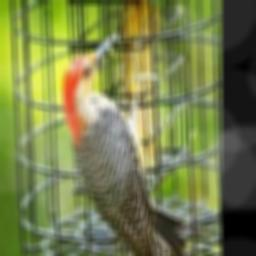Woodpecker: (62, 31, 187, 256)
